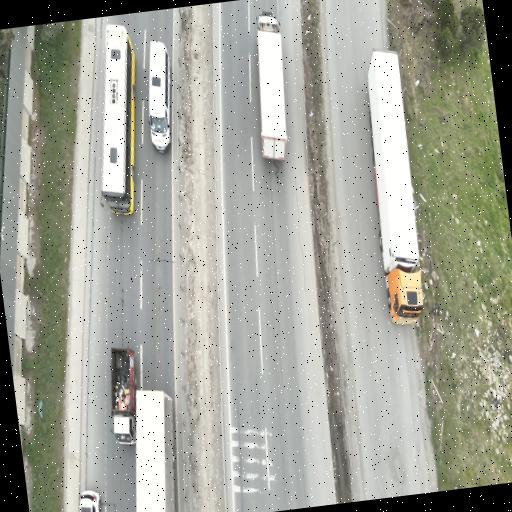bus: (102, 25, 135, 214), (148, 40, 172, 152)
car: (80, 490, 101, 511)
truck: (368, 50, 423, 324), (136, 391, 175, 511), (256, 12, 287, 160), (111, 348, 136, 444)
